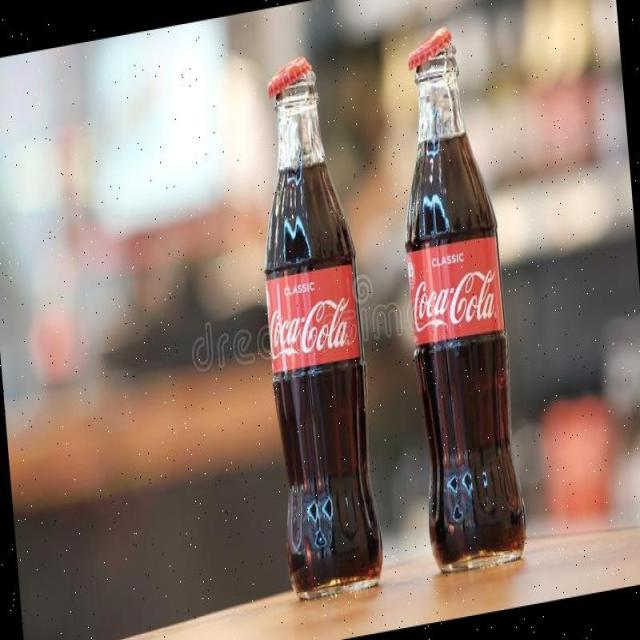coca-cola: (240, 43, 397, 614), (382, 3, 536, 584)
